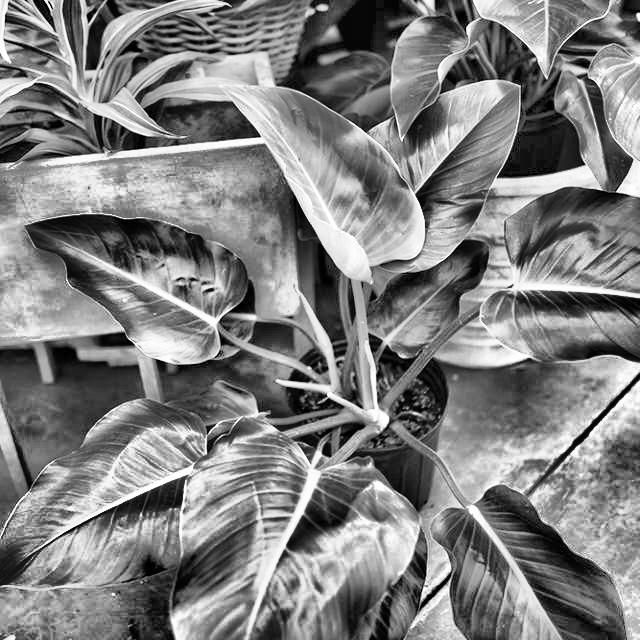plants: (97, 198, 584, 629), (368, 23, 639, 195), (3, 8, 225, 162)
